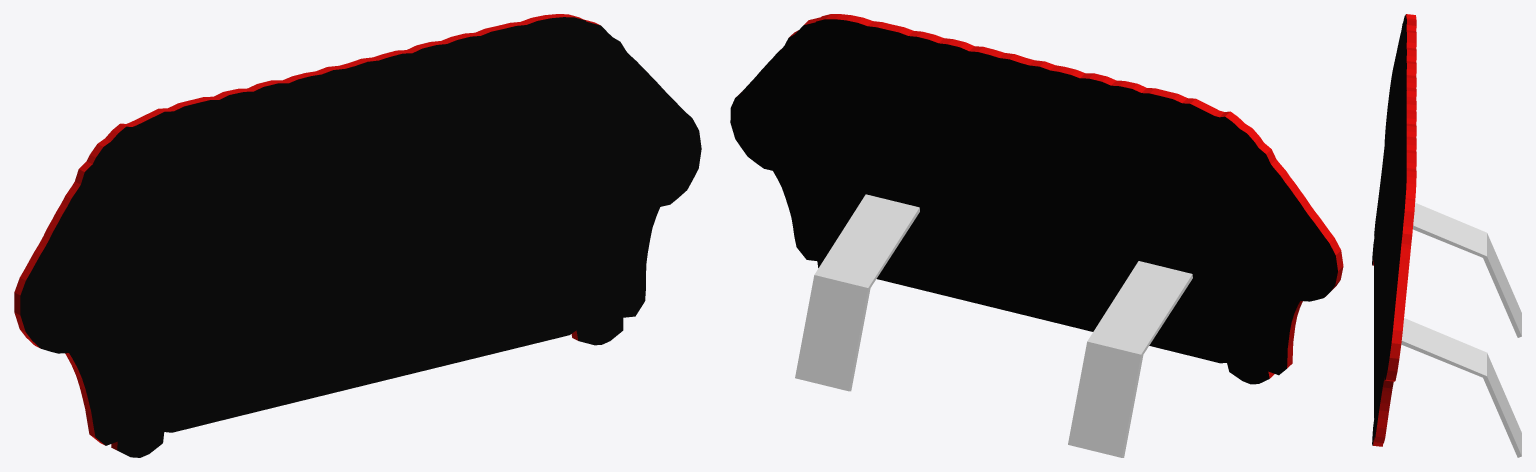
File: brown sofa cardboard.fbx
3 renders of one model, left to right at view 1: azimuth 30°, elevation 25°; view 2: azimuth 150°, elevation 25°; view 3: azimuth 270°, elevation 25°, orthographic. The views are drawn at different scales.
Parts seen in each view (by area): view 1: path1; view 2: path1, Plane, Plane.001; view 3: path1, Plane.001, Plane.
Part boxes in pixels (x1,y1,x2,y2): path1: (14,14,701,457); path1: (730,14,1343,384); Plane: (1068,261,1192,457); Plane.001: (795,194,919,391); path1: (1372,14,1416,446); Plane.001: (1401,318,1521,457); Plane: (1413,202,1521,337).
Bounding box in the file's own units: 1976 × 987 × 469.
